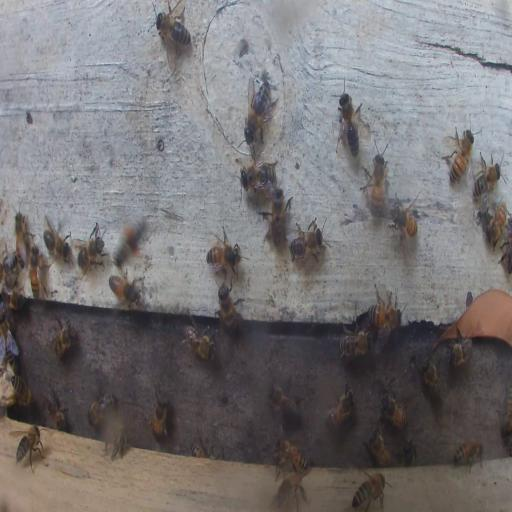nonpollenbee: (335, 83, 364, 158), (244, 80, 278, 141), (361, 146, 388, 219), (156, 1, 192, 55), (74, 222, 108, 275), (446, 125, 475, 184), (263, 188, 291, 246), (206, 230, 241, 276), (324, 382, 356, 431), (289, 218, 324, 261), (42, 214, 71, 264), (14, 424, 44, 472), (182, 316, 216, 358), (388, 195, 418, 242), (267, 380, 302, 420), (272, 438, 310, 474), (472, 152, 503, 196), (352, 472, 386, 511), (108, 269, 142, 307), (366, 422, 392, 469), (86, 391, 117, 428), (241, 160, 276, 192), (486, 201, 508, 251), (380, 388, 406, 430), (367, 300, 400, 333), (338, 328, 371, 361), (218, 284, 240, 333), (421, 354, 443, 401), (452, 438, 484, 470), (53, 317, 76, 361), (47, 386, 68, 429), (276, 475, 308, 503), (499, 383, 512, 450), (447, 336, 473, 367), (0, 311, 17, 358), (14, 212, 29, 264), (8, 372, 32, 404), (104, 430, 129, 460), (29, 247, 42, 299), (153, 392, 167, 439), (2, 286, 26, 310), (401, 440, 418, 468), (192, 438, 212, 456), (2, 248, 16, 272)
pollenbee: (110, 217, 150, 272)
